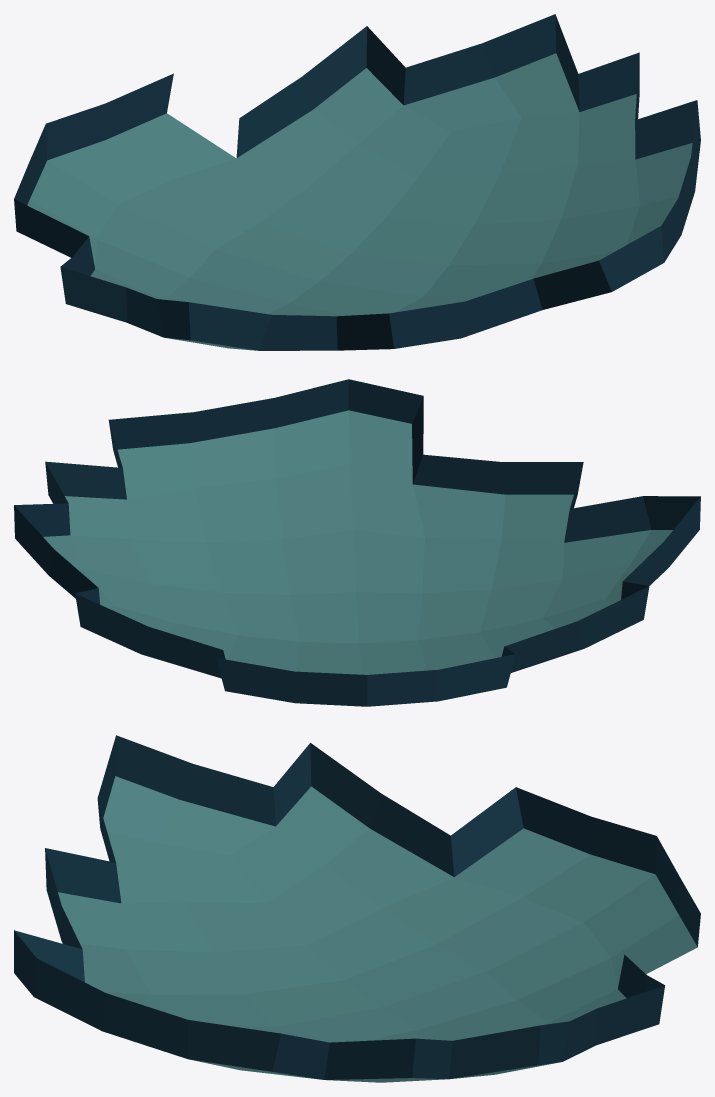
3 renders of one model, top to bottom at view 1: azimuth 30°, elevation 25°; view 2: azimuth 150°, elevation 25°; view 3: azimuth 270°, elevation 25°, orthographic. The views are drawn at different scales.
Parts seen in each view (by area): view 1: pasted__Planet; view 2: pasted__Planet; view 3: pasted__Planet.
Boxes of the visible parts, x1,y1,x2,y2 form: pasted__Planet: (14,14,700,350); pasted__Planet: (14,379,700,706); pasted__Planet: (14,735,700,1082).
Bounding box in the file's own units: 9.94 × 2.05 × 9.
